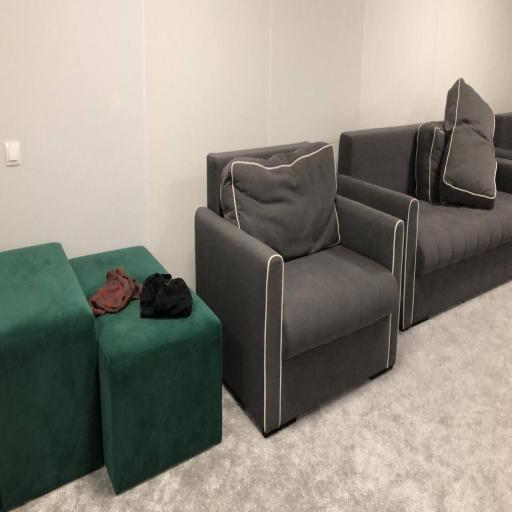hole: (195, 141, 403, 436), (337, 77, 512, 330)
